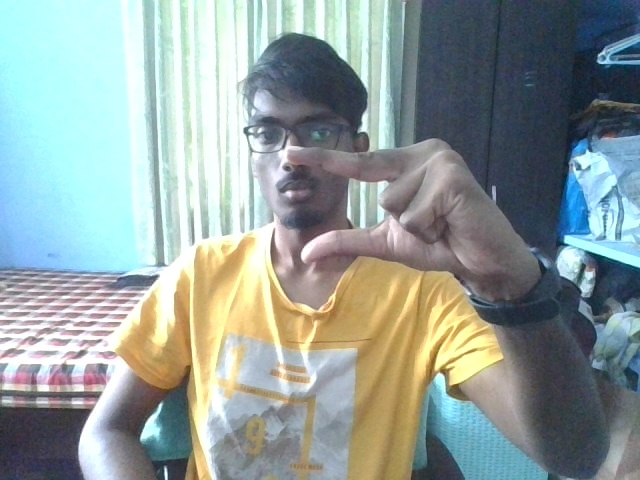No: (279, 136, 509, 277)
